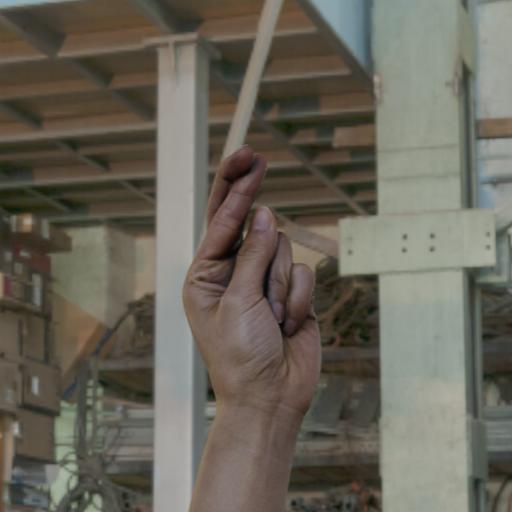R: (159, 124, 358, 448)
